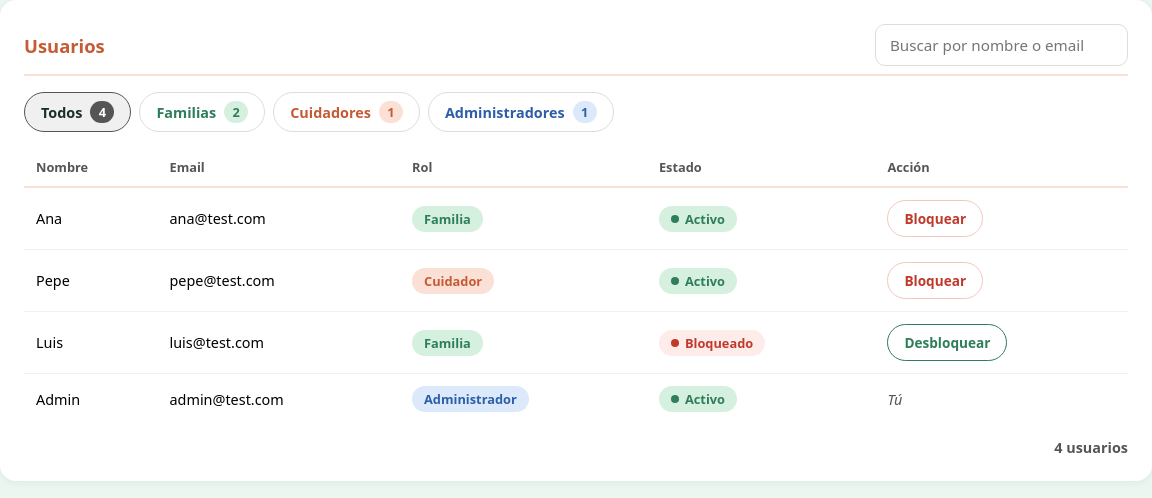
AdminUsuarios › el botón Cuidadores solo enseña a los cuidadores y dice 1 usuario
Click the button with class "admin-usuarios__grupo" showing "Cuidadores 1" at (347, 112), box x1=273 y1=92 x2=420 y2=132
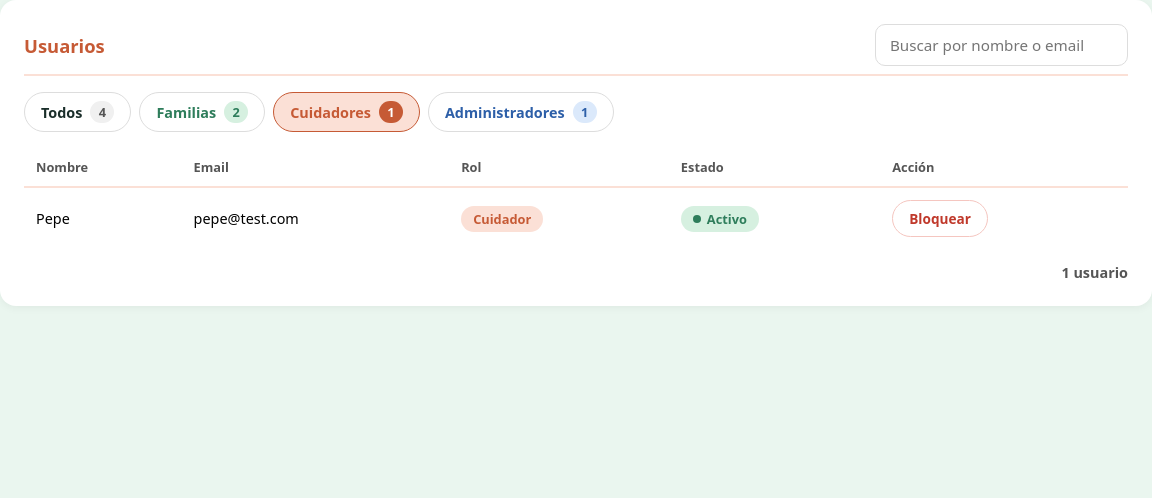
Expected: the text "Pepe" is shown, x1=24 y1=187 x2=182 y2=249
Expected: the text "1 usuario" is shown, x1=1061 y1=263 x2=1128 y2=282
